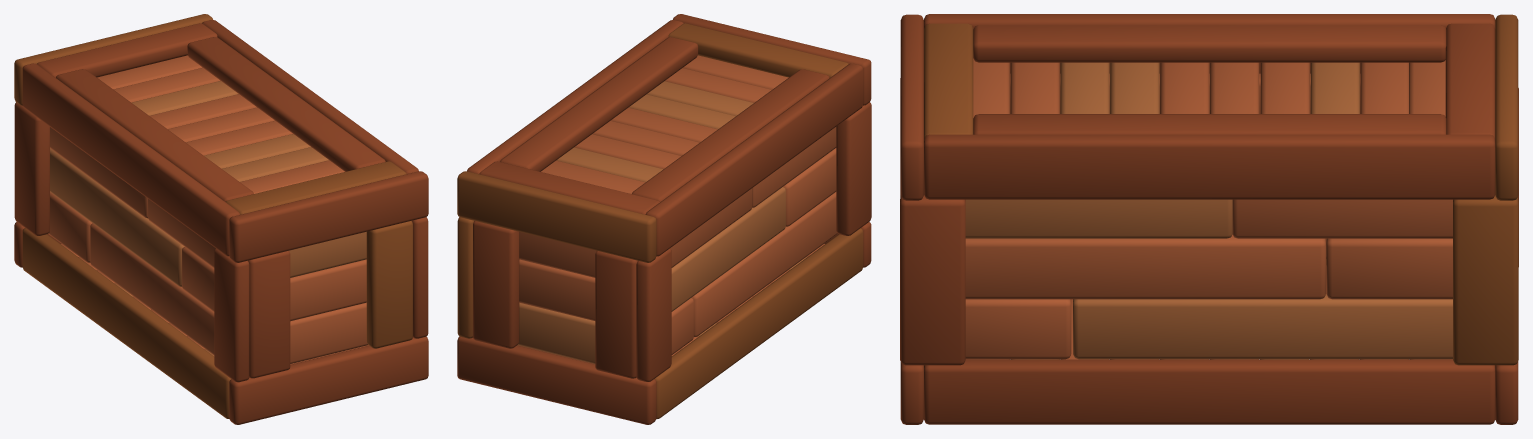
Rendered from Caisse 2.fbx.
3 views of the same model, side by side, from view 1: azimuth 30°, elevation 25°; view 2: azimuth 150°, elevation 25°; view 3: azimuth 270°, elevation 25° (orthographic). The views are drawn at different scales.
Visible parts, largest first — view 1: caisse 2; view 2: caisse 2; view 3: caisse 2.
Boxes of the visible parts, x1,y1,x2,y2 form: caisse 2: [14, 14, 428, 424]; caisse 2: [457, 14, 871, 424]; caisse 2: [900, 14, 1518, 424].
Bounding box in the file's own units: 100 × 101 × 199.
